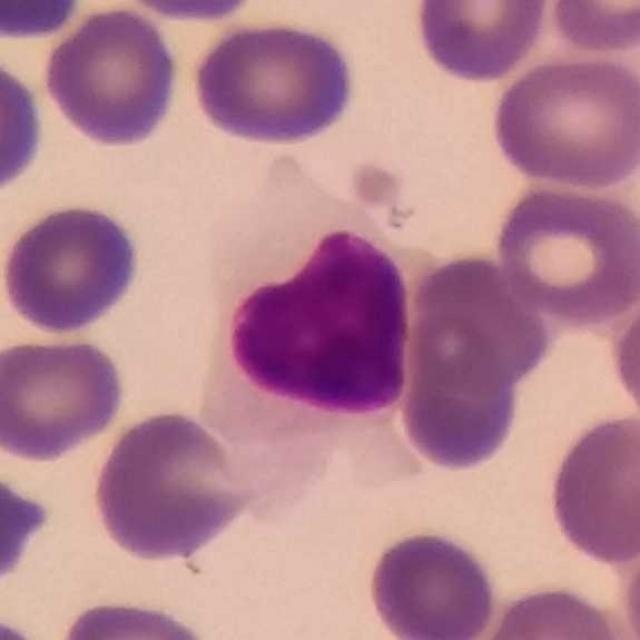Lymphocyte: (164, 171, 420, 485)
RBC: (88, 405, 254, 563), (189, 16, 361, 149), (394, 308, 528, 478), (489, 179, 640, 326), (402, 250, 554, 396), (487, 51, 640, 192), (40, 4, 183, 150), (1, 200, 146, 338), (0, 331, 129, 463), (364, 525, 500, 640), (544, 409, 640, 566), (410, 0, 556, 85), (471, 580, 632, 640), (0, 456, 57, 604), (54, 594, 220, 640), (0, 51, 49, 198), (545, 0, 640, 57), (607, 280, 640, 432), (0, 0, 87, 45), (111, 0, 263, 23)
